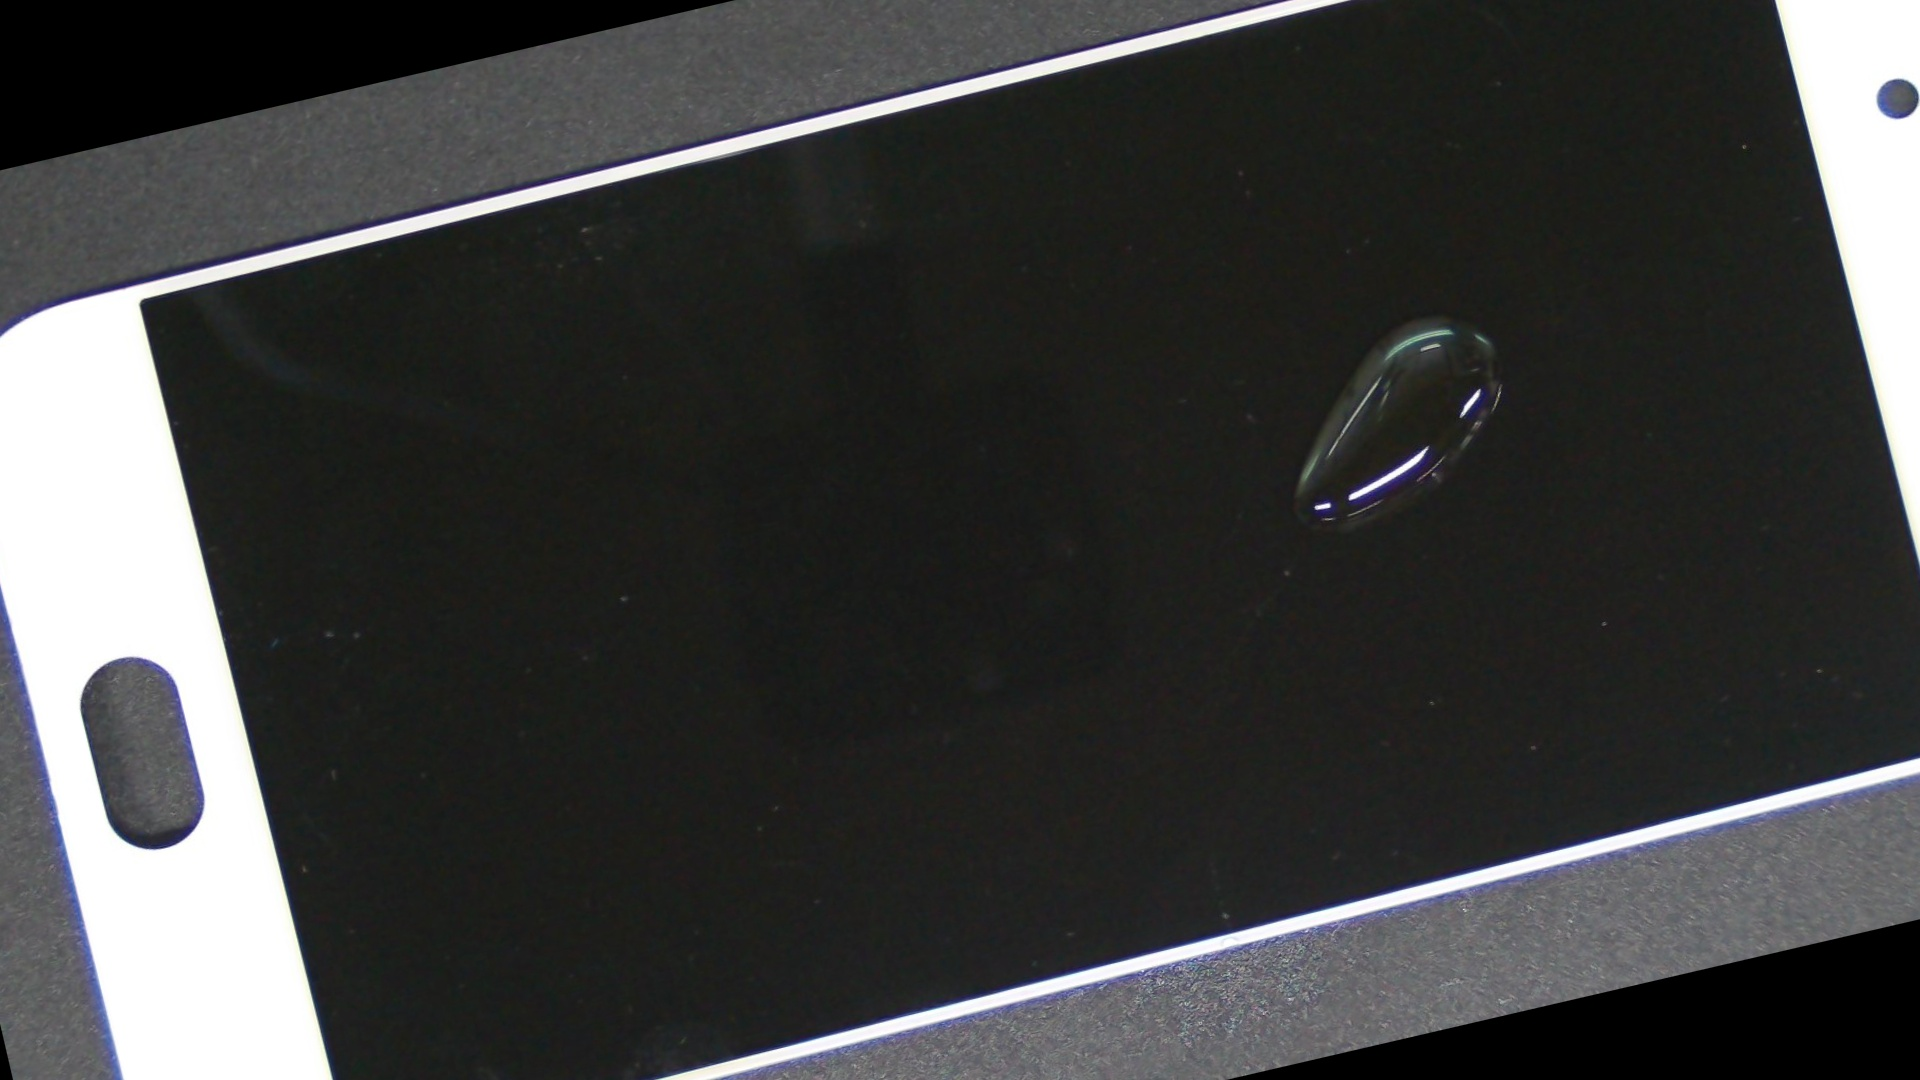oil: (611, 0, 1920, 721)
